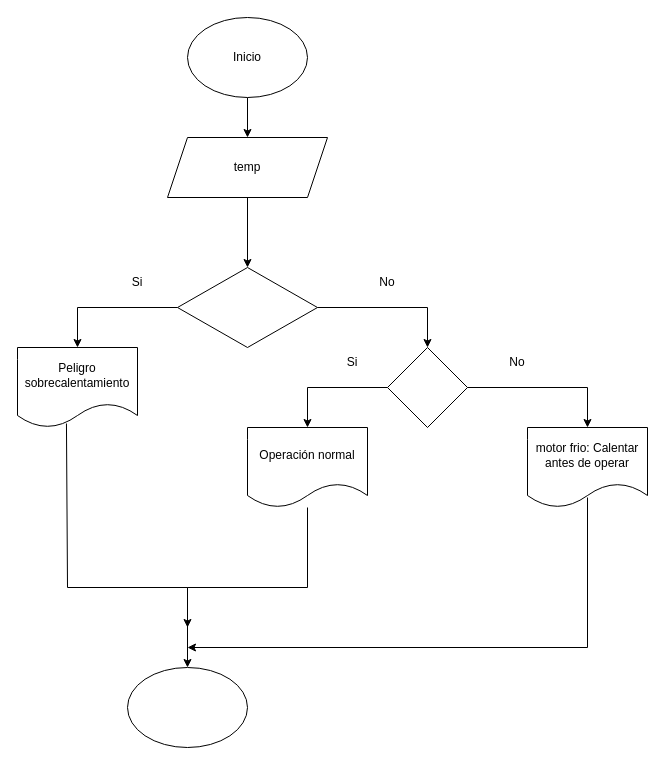
Image size: 665x765. Some labels were removed from this diagram. Here are the shapes that lost their labels. From the top down, the centre of each, then its label:
the point at 247,307: temp>200
the point at 427,387: temp>50
the point at 187,707: Fin
